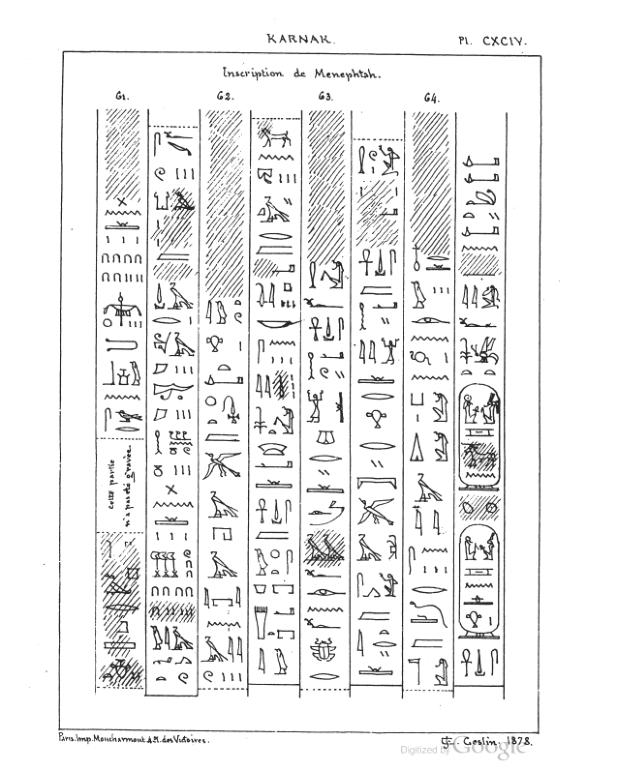circle: (456, 523, 502, 642), (456, 383, 502, 495)
